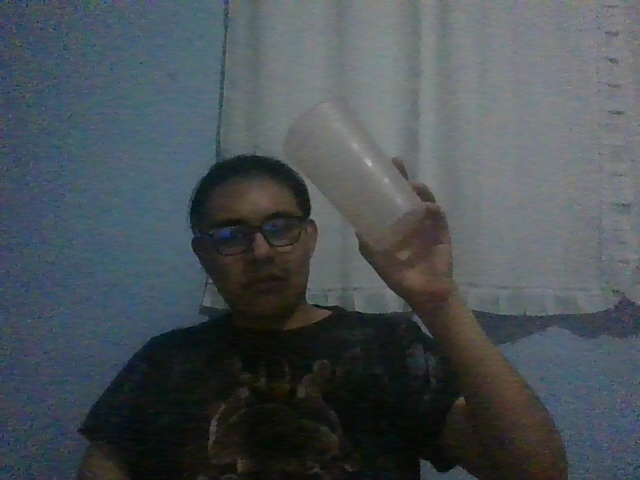vaso: (281, 94, 428, 253)
